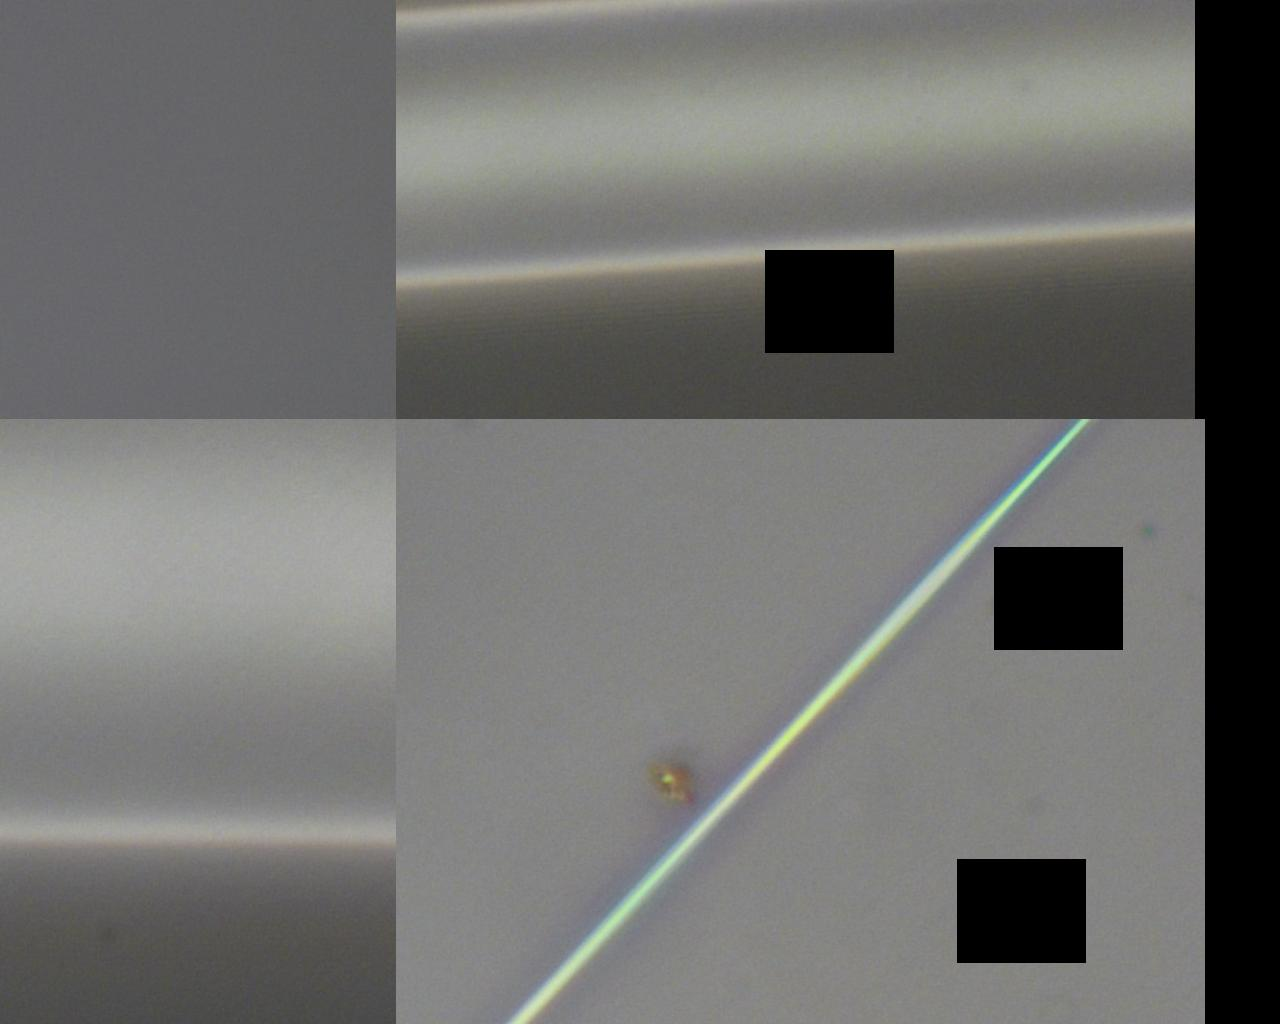fiber: (145, 0, 259, 757)
